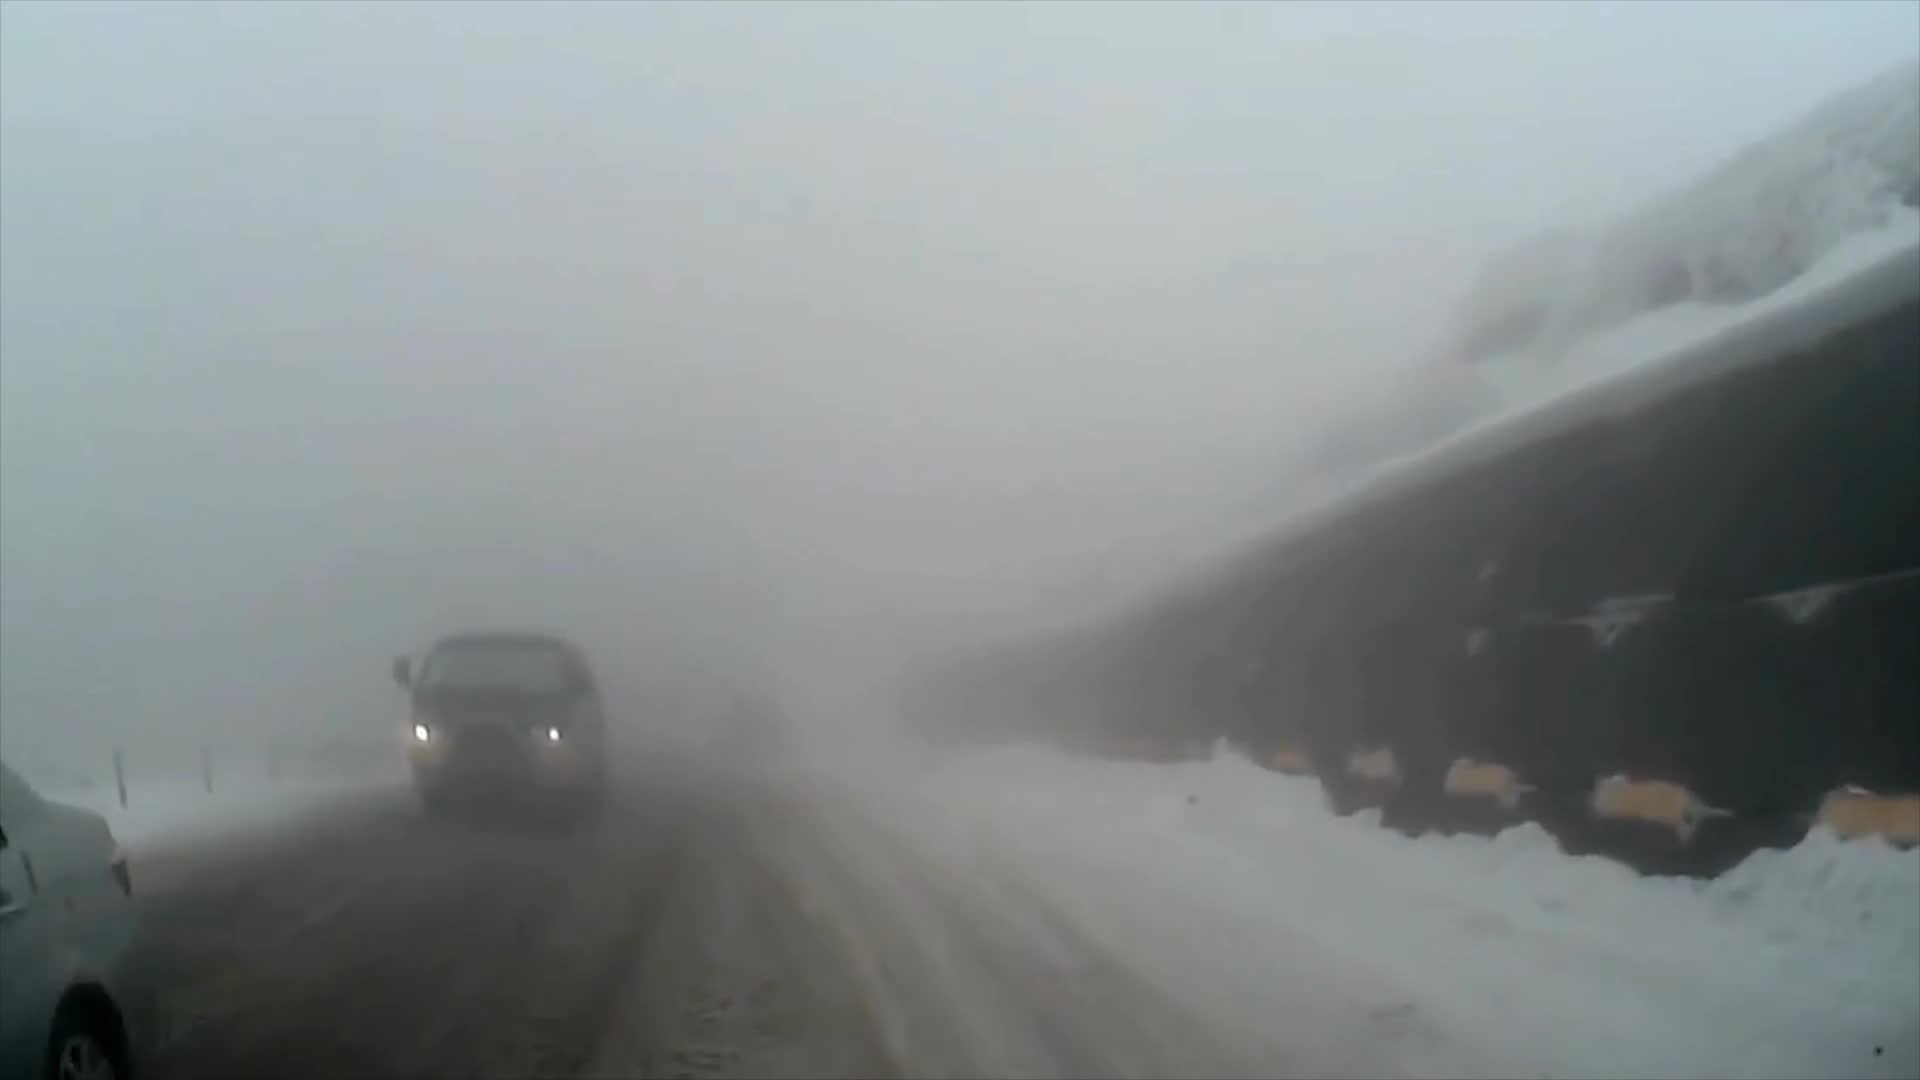vehicle: (0, 749, 150, 1080), (388, 632, 611, 829)
